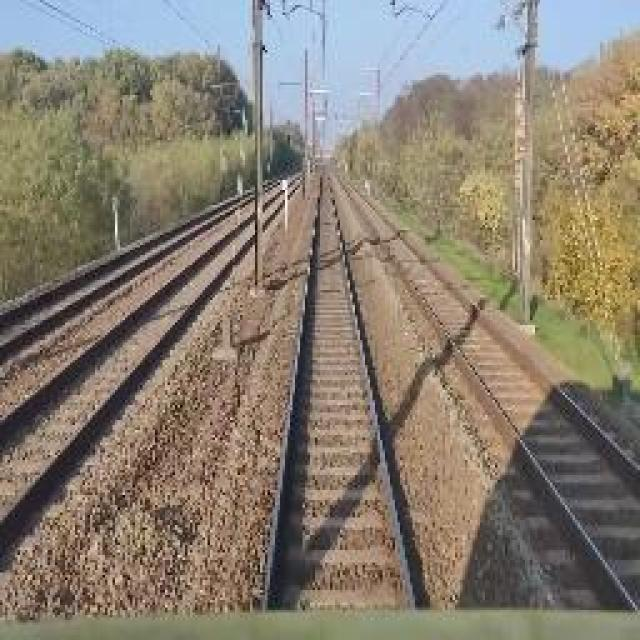rail: (329, 170, 640, 619), (0, 168, 309, 598), (235, 163, 449, 613), (0, 166, 288, 385)
